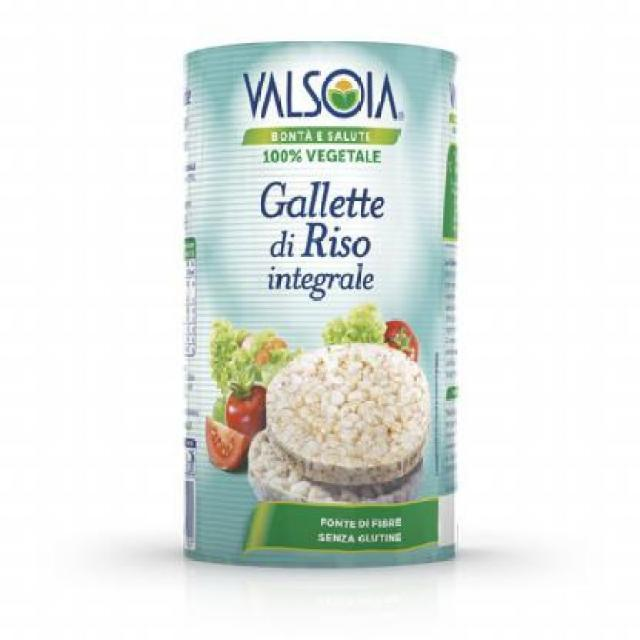Gallette di riso: (176, 48, 464, 564)
